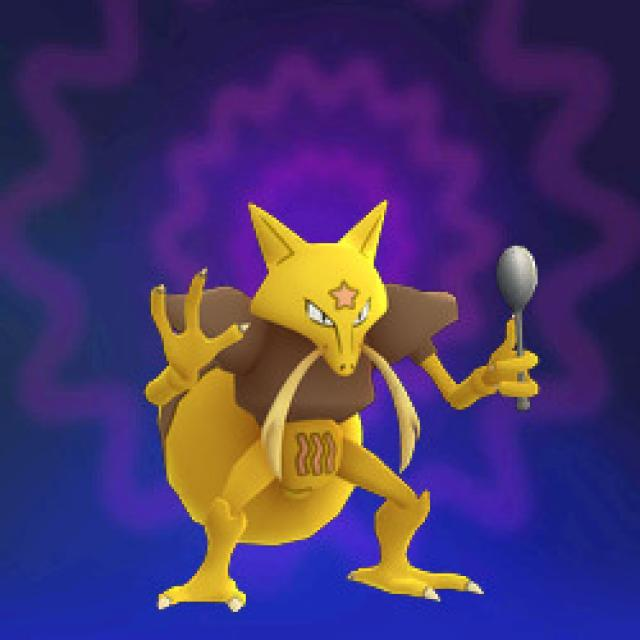Kadabra: (130, 184, 524, 606)
